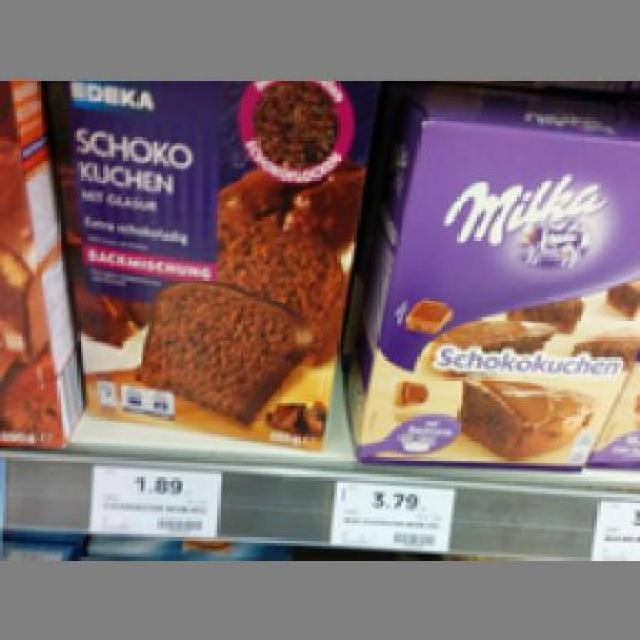Cake: (52, 74, 374, 460), (363, 91, 637, 468)
